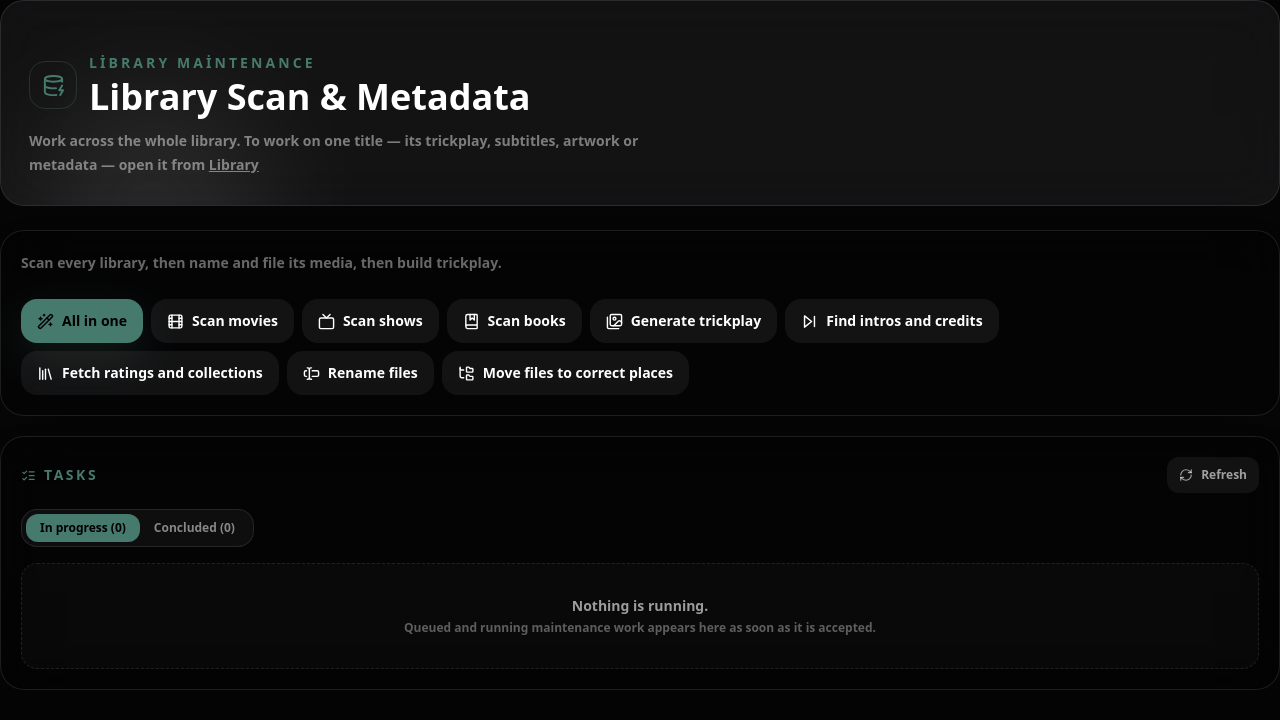
Scenario: connects sibling actions to the canonical reader and reveals ultra-fast work outside history
Click the button "Rename files": (360, 373) [287,351,434,395]
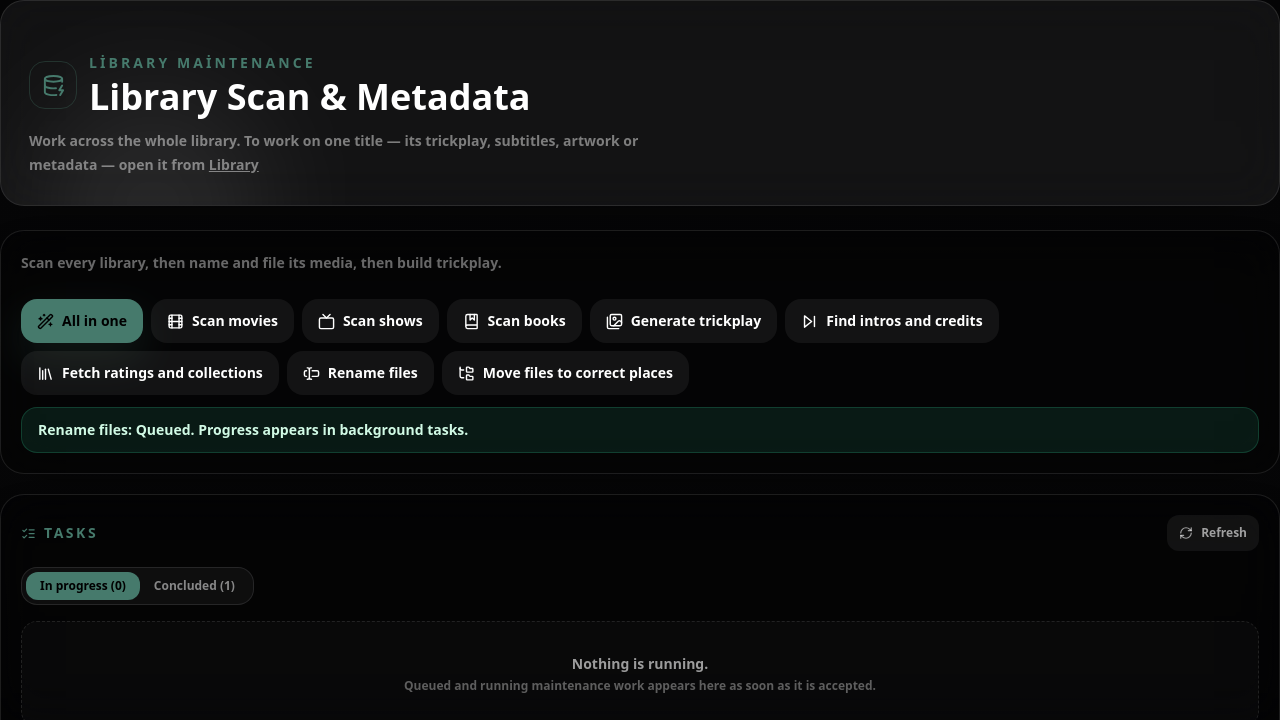
Click the tab "Concluded (1)": (194, 586) [140,572,249,600]
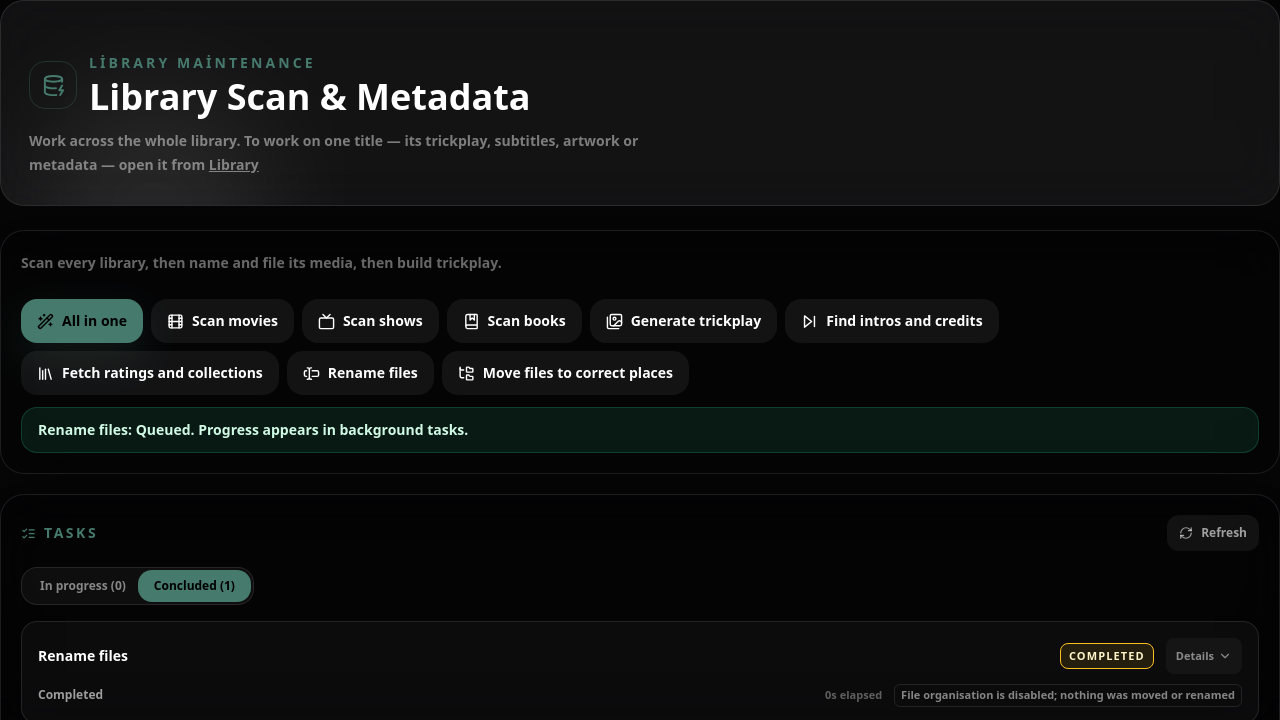
Expected: the text "File organisation is disabled; nothing was moved or renamed" is shown, [894,684,1242,706]
